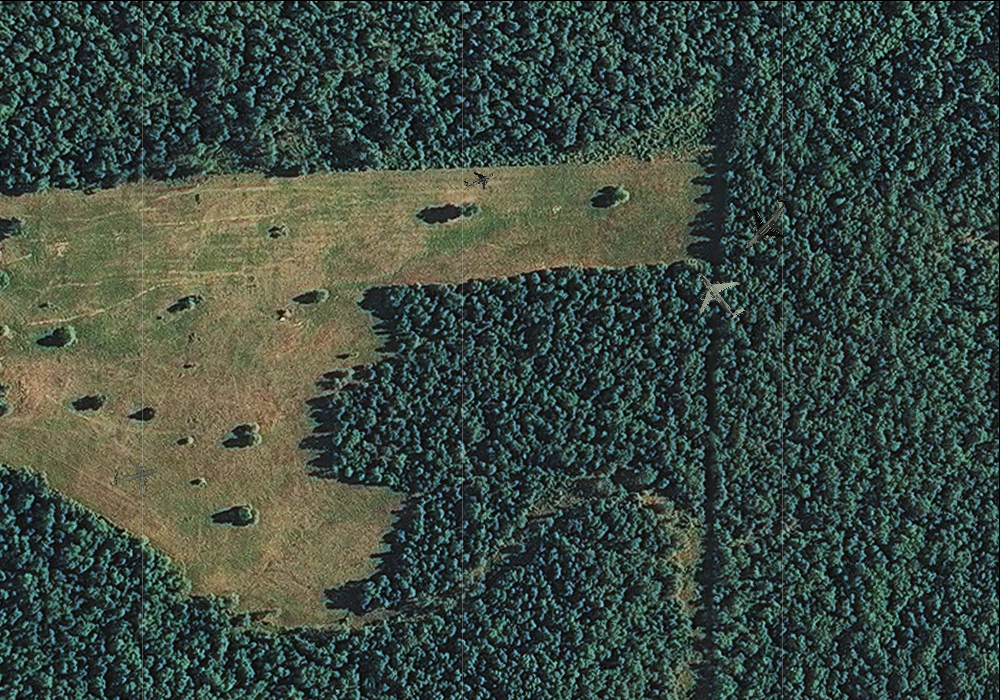plane: (724, 181, 806, 263), (679, 254, 759, 335), (107, 447, 164, 502), (459, 160, 499, 197)
